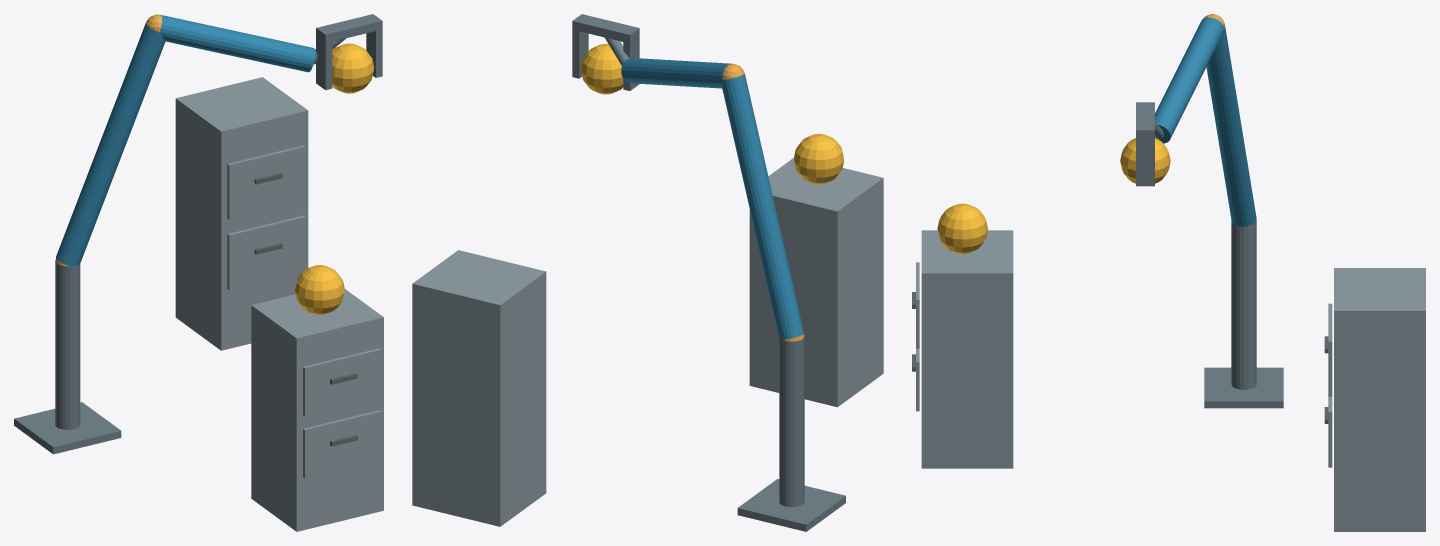
3 renders of one model, left to right at view 1: azimuth 30°, elevation 25°; view 2: azimuth 150°, elevation 25°; view 3: azimuth 270°, elevation 25°, orthographic.
Parts seen in each view (by area): view 1: cabinet_2 body, cabinet_1 body, moving link 1, cabinet_2 drawer front.001, cabinet_2 drawer front, fixed post, moving link 2, cabinet_1 drawer front, cabinet_1 drawer front.001, pedestal, released ball_1, ball ball_2 (+3 smaller); view 2: cabinet_2 body, cabinet_1 body, moving link 1, fixed post, pedestal, moving link 2, released ball_1, ball ball_2, gripper bridge, gripper finger 1; view 3: cabinet_2 body, cabinet_1 body, moving link 1, fixed post, moving link 2, pedestal, released ball_1, ball ball_2, gripper finger 1, gripper bridge.
Boxes of the visible parts, x1,y1,x2,y2 form: cabinet_2 body: [175, 77, 308, 350]; cabinet_1 body: [251, 289, 383, 531]; moving link 1: [56, 22, 165, 266]; cabinet_2 drawer front.001: [227, 145, 305, 219]; cabinet_2 drawer front: [227, 215, 305, 290]; fixed post: [55, 260, 80, 429]; moving link 2: [160, 15, 315, 72]; cabinet_1 drawer front: [303, 410, 381, 478]; cabinet_1 drawer front.001: [303, 348, 381, 416]; pedestal: [14, 402, 121, 454]; released ball_1: [295, 265, 344, 314]; ball ball_2: [332, 43, 374, 93]; cabinet_2 body: [412, 250, 546, 526]; cabinet_1 body: [749, 158, 883, 407]; moving link 1: [721, 73, 804, 339]; fixed post: [779, 336, 804, 507]; pedestal: [737, 479, 845, 531]; moving link 2: [621, 58, 730, 88]; released ball_1: [794, 133, 844, 184]; ball ball_2: [581, 43, 623, 94]; gripper bridge: [572, 14, 639, 43]; gripper finger 1: [572, 29, 588, 78]; cabinet_2 body: [1334, 268, 1425, 531]; cabinet_1 body: [921, 230, 1013, 468]; moving link 1: [1206, 24, 1256, 226]; fixed post: [1231, 220, 1256, 389]; moving link 2: [1155, 17, 1224, 143]; pedestal: [1204, 367, 1283, 408]; released ball_1: [937, 203, 987, 254]; ball ball_2: [1120, 138, 1170, 183]; gripper finger 1: [1136, 139, 1154, 186]; gripper bridge: [1136, 102, 1154, 138].
Bounding box in the file's own units: 1.17 × 1.44 × 1.62.
